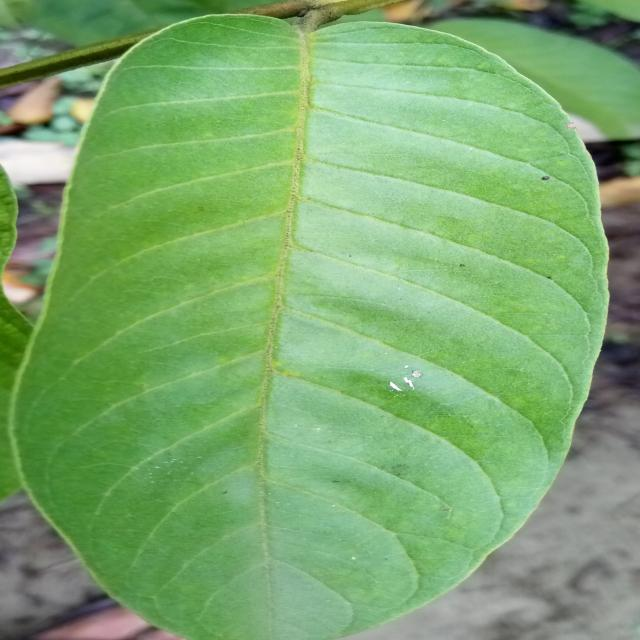Disease Free: (10, 15, 607, 640)
